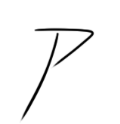a: (12, 22, 98, 122)
